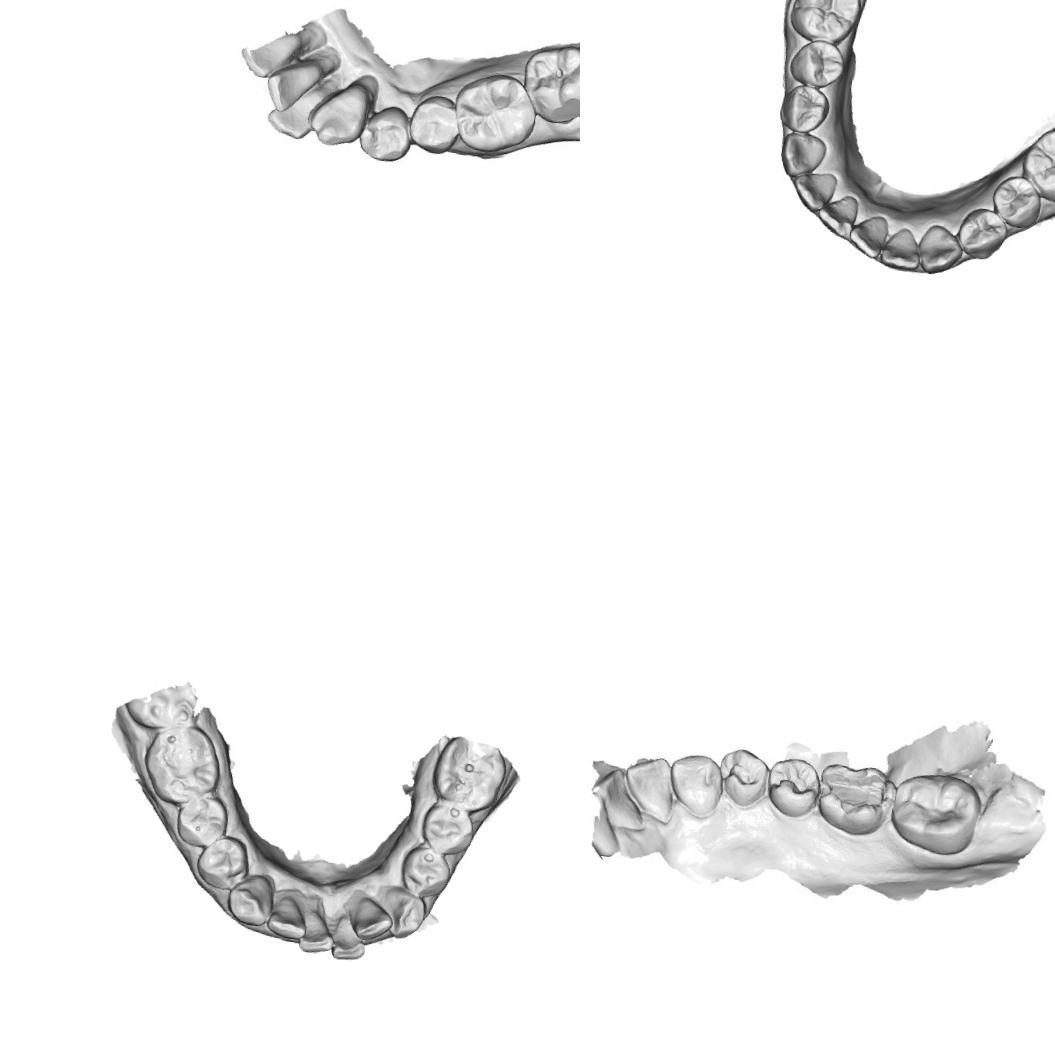canine: (662, 748, 728, 822), (306, 78, 370, 150), (224, 868, 278, 928), (376, 884, 429, 943), (914, 222, 966, 279), (776, 129, 829, 182)
incisor: (618, 752, 682, 826), (263, 54, 323, 114), (266, 84, 322, 144), (347, 892, 398, 945), (264, 890, 312, 941), (788, 168, 838, 216), (328, 909, 370, 963), (814, 190, 860, 239), (878, 224, 924, 272), (296, 906, 338, 957), (846, 212, 890, 260)
inlay: (816, 764, 889, 820)
molar: (884, 766, 986, 860), (448, 68, 538, 164), (138, 719, 227, 812), (427, 730, 511, 817), (512, 39, 580, 132), (786, 0, 865, 48), (1017, 123, 1055, 207)
premolar: (762, 752, 824, 822), (714, 742, 772, 812), (352, 103, 413, 166), (193, 830, 252, 894), (417, 798, 478, 859), (407, 94, 465, 158), (173, 791, 232, 851), (786, 36, 848, 92), (988, 172, 1046, 231), (954, 204, 1012, 262), (397, 844, 454, 900), (777, 82, 832, 136)
